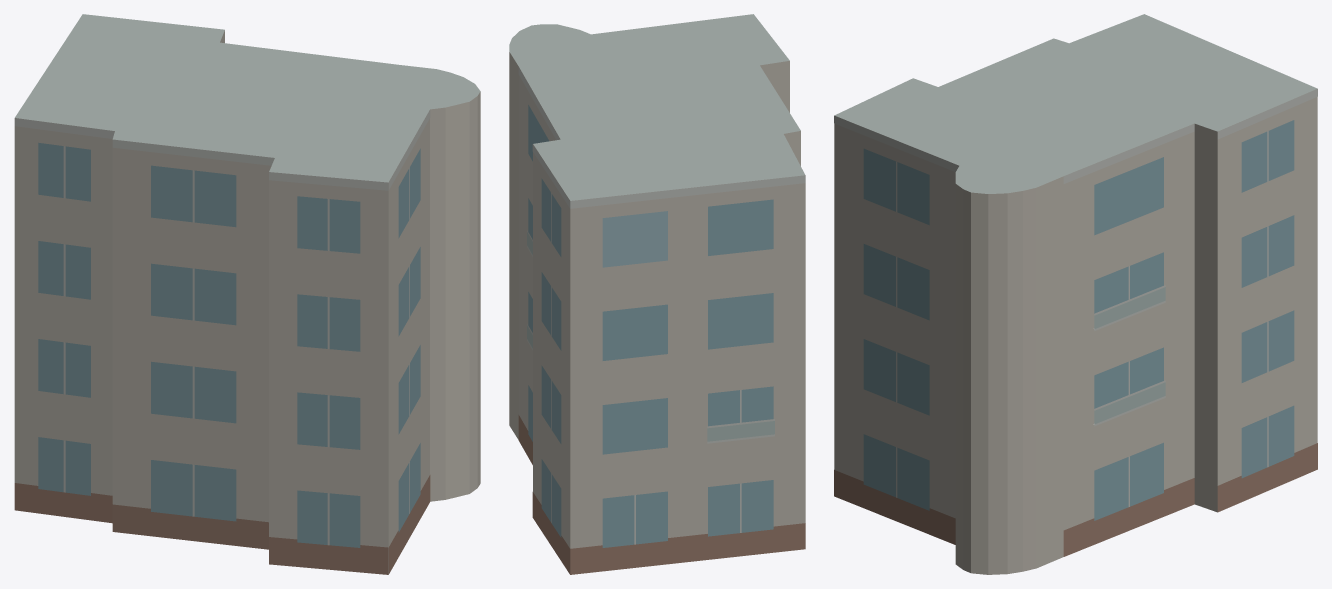
The model's file is survey-upis-32984871.glb.
3 renders of one model, left to right at view 1: azimuth 30°, elevation 25°; view 2: azimuth 150°, elevation 25°; view 3: azimuth 270°, elevation 25°, orthographic. The views are drawn at different scales.
Visible parts, largest first — view 1: survey-upis-32984871.tmp; view 2: survey-upis-32984871.tmp; view 3: survey-upis-32984871.tmp.
Boxes of the visible parts, x1,y1,x2,y2 form: survey-upis-32984871.tmp: [14, 14, 480, 574]; survey-upis-32984871.tmp: [509, 14, 805, 574]; survey-upis-32984871.tmp: [834, 14, 1317, 574].
Size of the model in its own units: 11.77 by 11.6 by 13.36.
